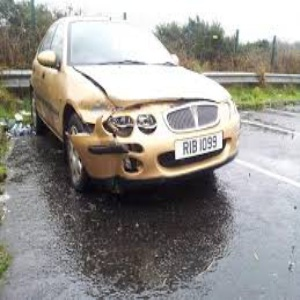bumper: (67, 126, 144, 179)
